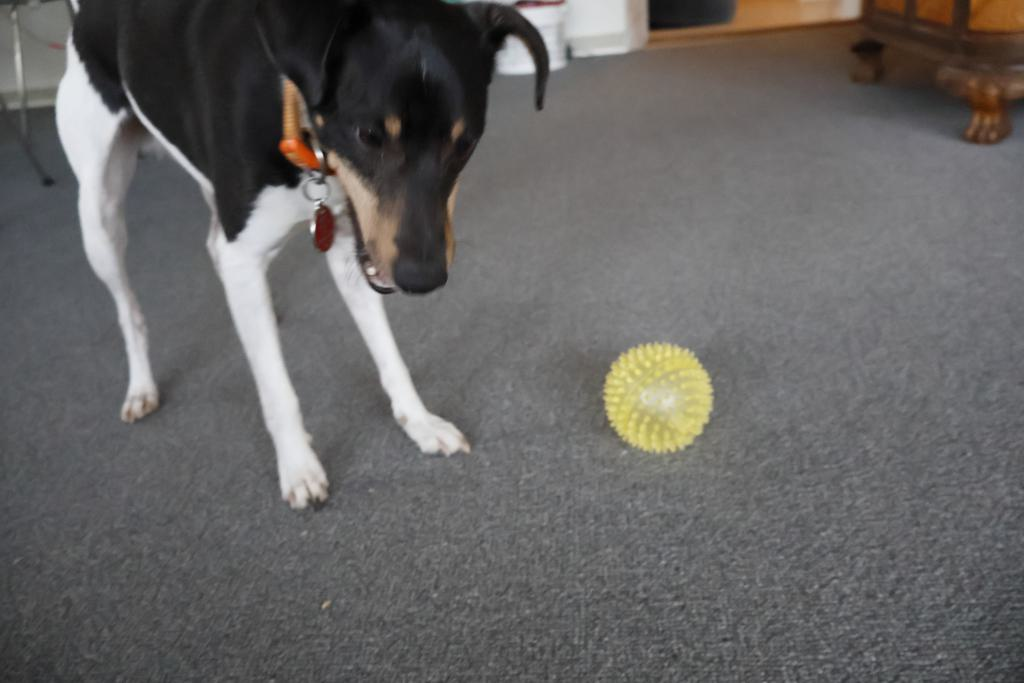Dog: (40, 0, 565, 523)
